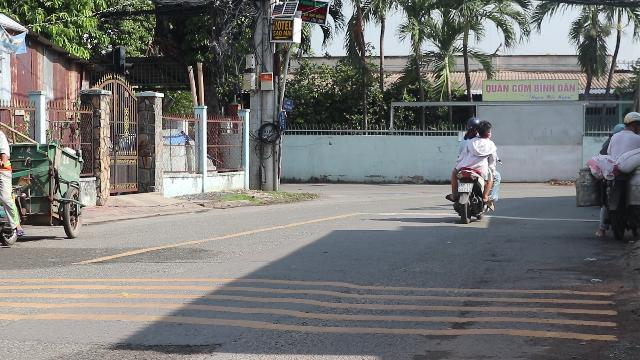helmet: (624, 111, 640, 131), (465, 117, 479, 131)
licenseplate: (458, 184, 472, 192)
motorcyclist: (444, 115, 500, 221), (595, 109, 639, 239)
nohelmet: (476, 120, 492, 138)
